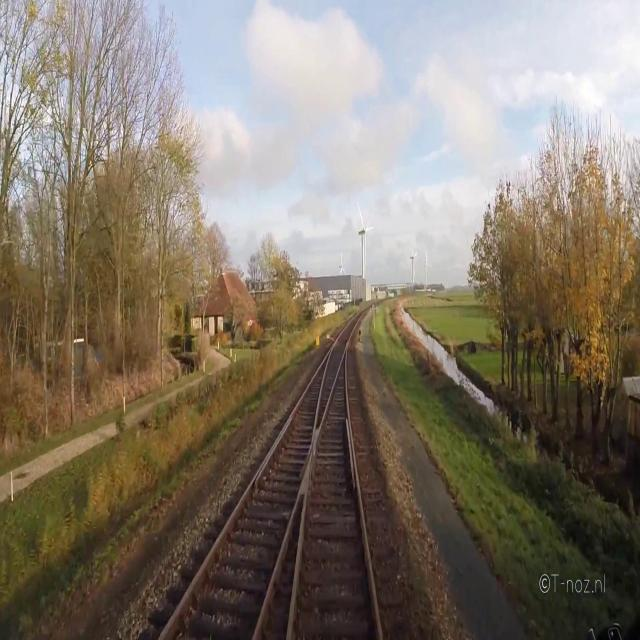rail-track: (292, 358, 378, 639)
